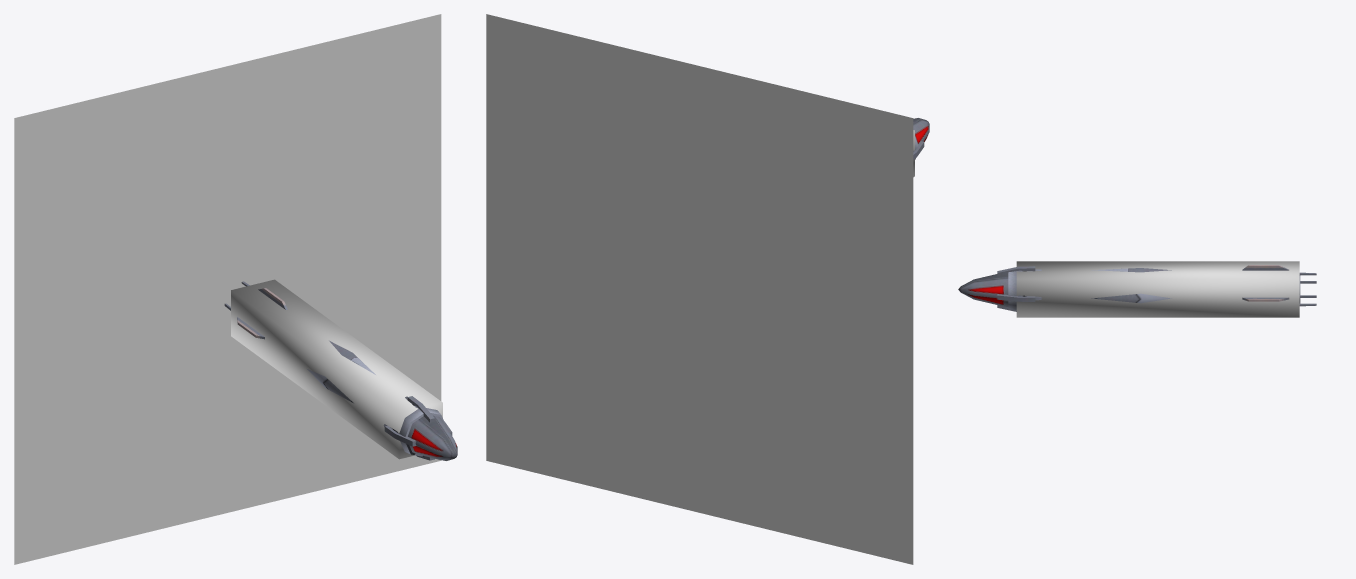
File: cyr_nukemissile.dae
3 views of the same model, side by side, from view 1: azimuth 30°, elevation 25°; view 2: azimuth 150°, elevation 25°; view 3: azimuth 270°, elevation 25° (orthographic). The views are drawn at different scales.
Visible parts, largest first — view 1: ETSH[EngineShape1], COL[Root], MULT[Hull]_LOD[0]; view 2: ETSH[EngineShape1]; view 3: COL[Root], MULT[Hull]_LOD[0].
Boxes of the visible parts, <box> form: ETSH[EngineShape1]: <box>14,14,441,564</box>; COL[Root]: <box>231,279,442,459</box>; MULT[Hull]_LOD[0]: <box>224,281,457,460</box>; ETSH[EngineShape1]: <box>486,14,913,564</box>; COL[Root]: <box>1016,261,1299,317</box>; MULT[Hull]_LOD[0]: <box>958,265,1316,311</box>.
Bounding box in the file's own units: 1 × 0.9252 × 1.
1 material, 1 textured.
